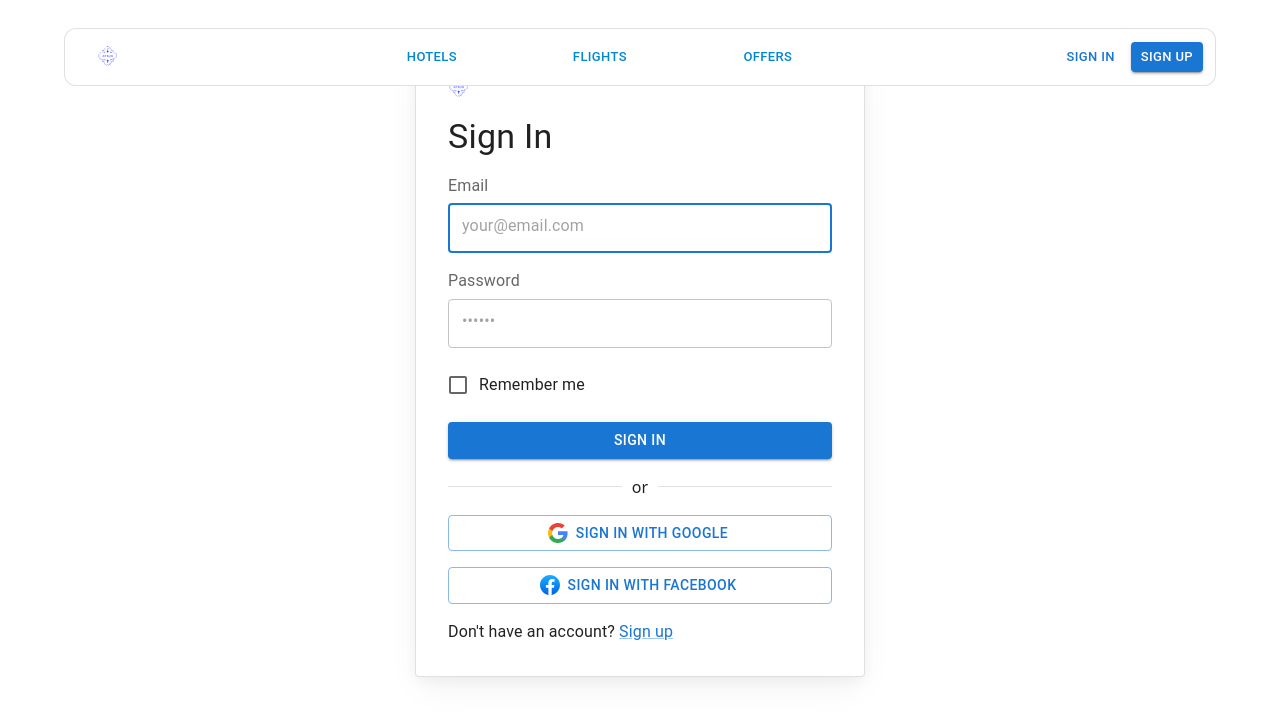
Scenario: Connexion utilisateur › should sign up with valid information and redirect to dashboard
This screenshot has width=1280, height=720.
Simuler la saisie des informations
Type "Lana@example.com" into the field named "email" at (640, 225), box [448,197,832,253]
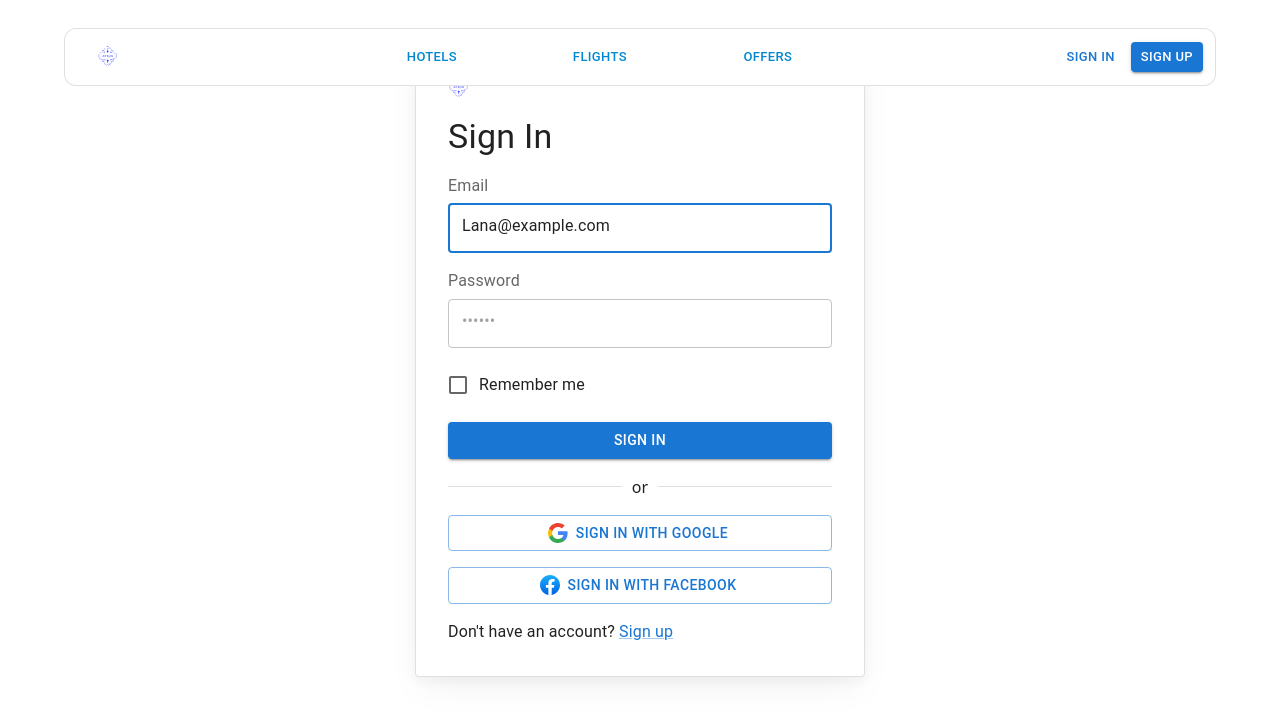
Type "EvaElfie1234." into the password field named "password" at (640, 320), box [448,292,832,348]
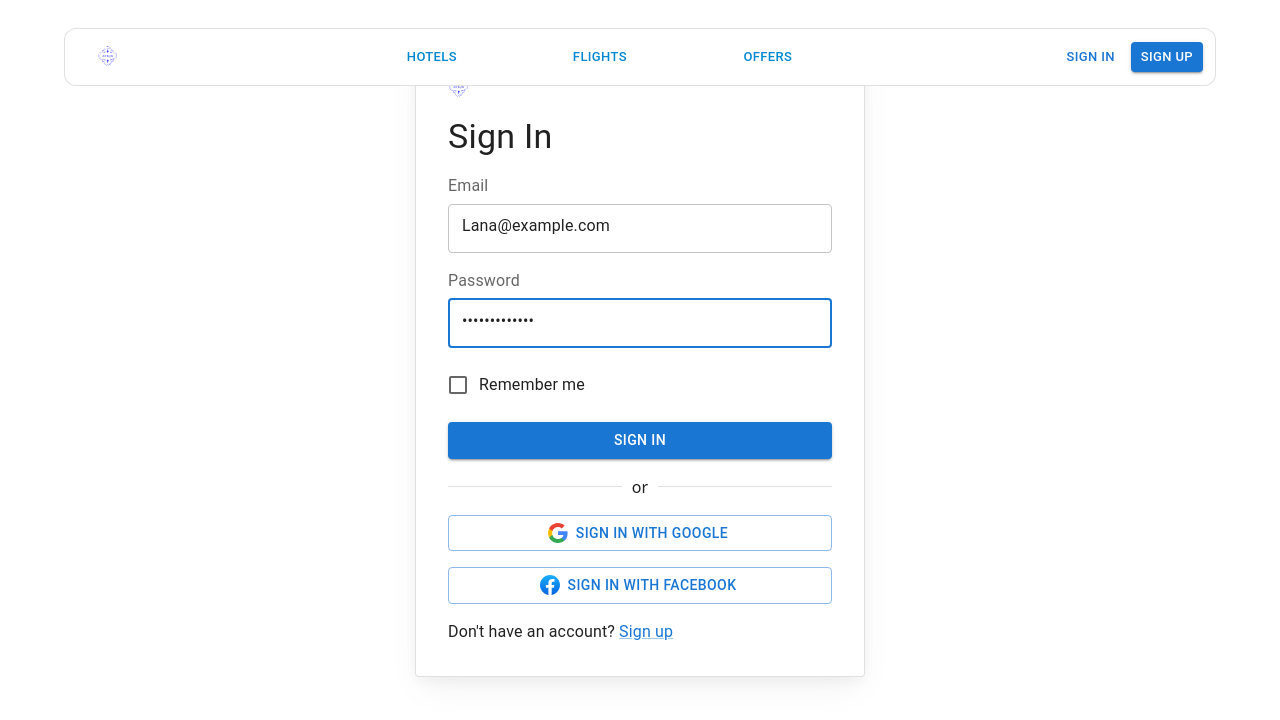
Soumettre le formulaire
Click the submit button at (640, 441), box [448,422,832,459]
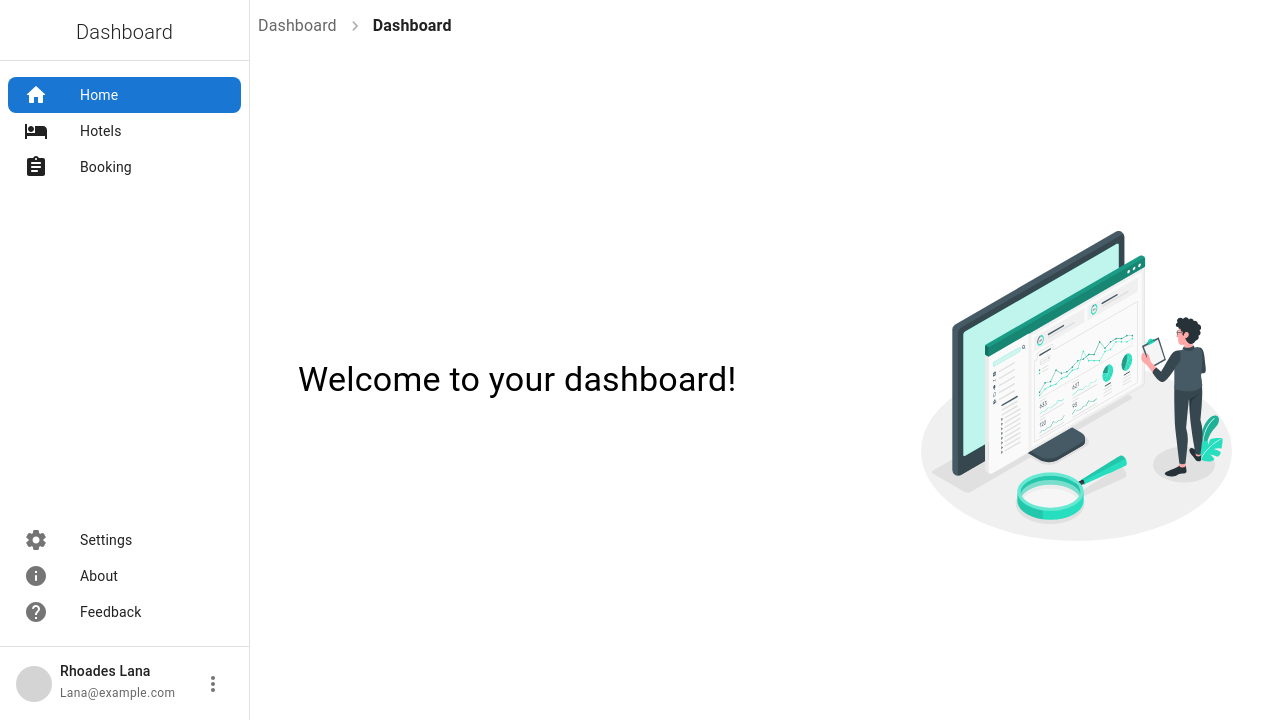
Expected: the heading "Welcome to your dashboard!" is shown, [298,359,736,401]
